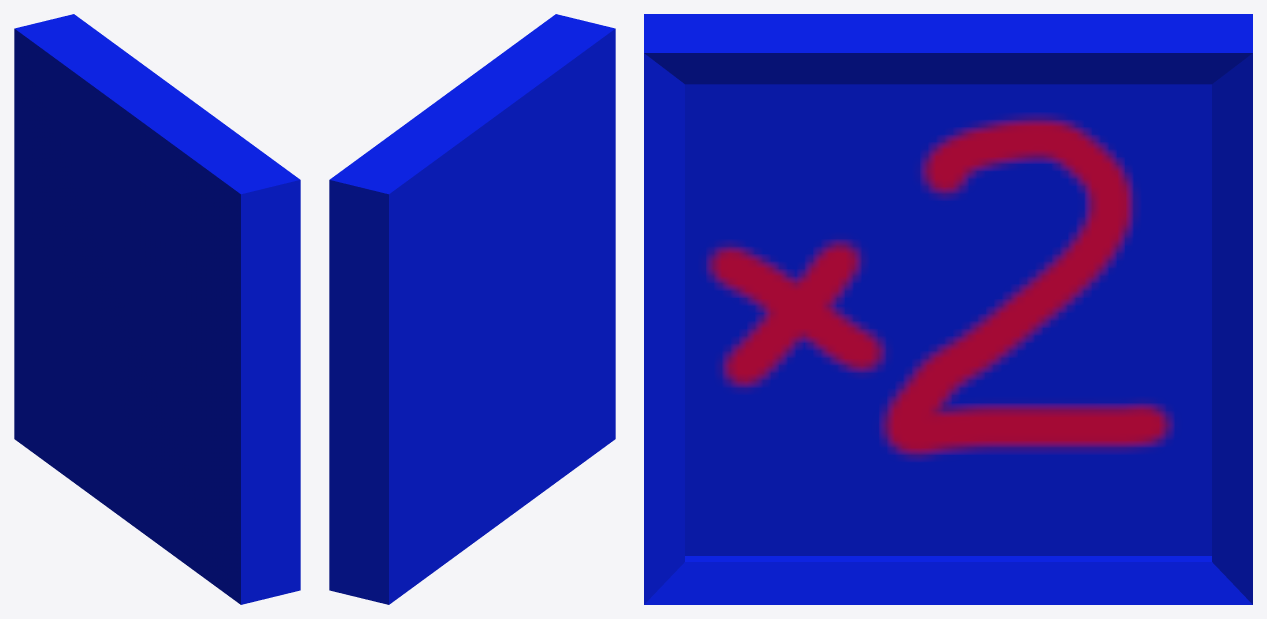
The model's file is TimesTwoMdl.obj.
The picture shows the model from 3 angles, left to right: view 1: azimuth 30°, elevation 25°; view 2: azimuth 150°, elevation 25°; view 3: azimuth 270°, elevation 25°; orthographic projection. The views are drawn at different scales.
Visible parts, largest first — view 1: Cube; view 2: Cube; view 3: Cube.
Part boxes in pixels (left/top/right/bottom): Cube: left=14, top=14, right=300, bottom=604; Cube: left=329, top=14, right=615, bottom=604; Cube: left=644, top=14, right=1252, bottom=604.
Bounding box in the file's own units: 0.3037 × 2 × 2.
Materials: 1 (1 with a texture image).
